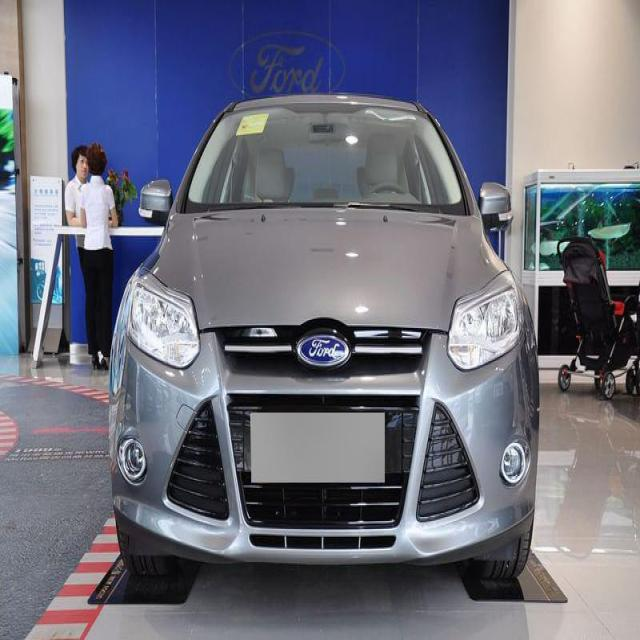front_bumper: (96, 332, 547, 572)
front_glass: (176, 90, 478, 233)
front_left_side_light: (445, 268, 547, 377)
front_left_side_mirror: (470, 176, 520, 248)
front_right_side_light: (123, 262, 205, 385)
front_right_side_mirror: (132, 172, 181, 241)
